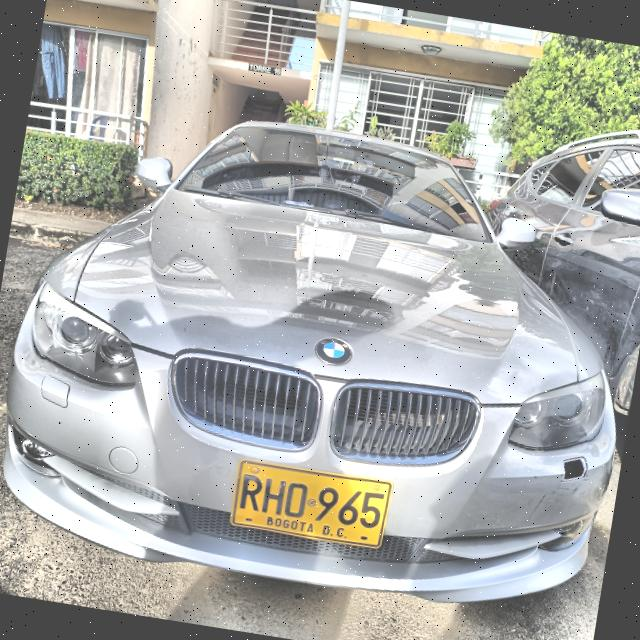plate: (232, 459, 391, 548)
